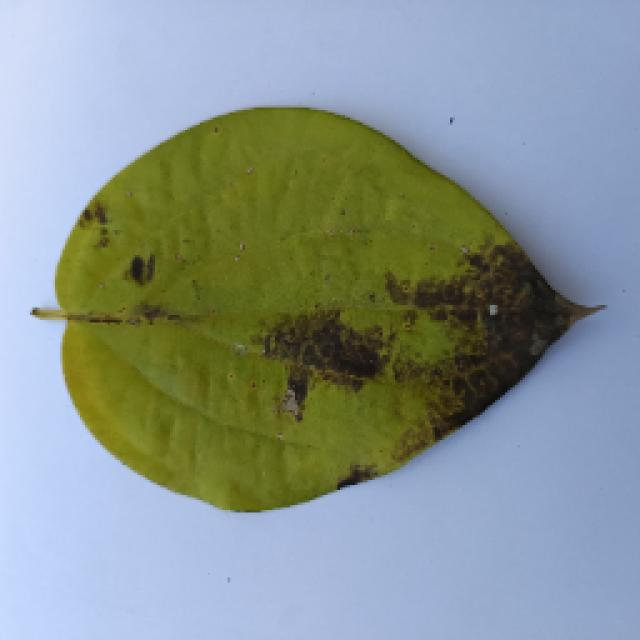slow-decline: (20, 102, 608, 512)
